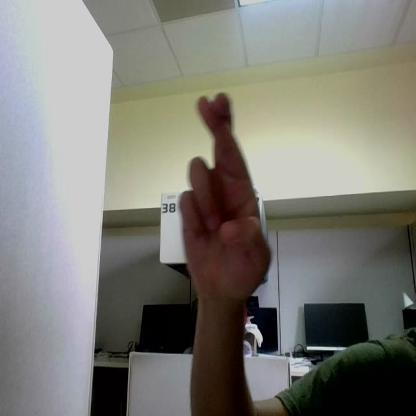R: (180, 94, 271, 298)
